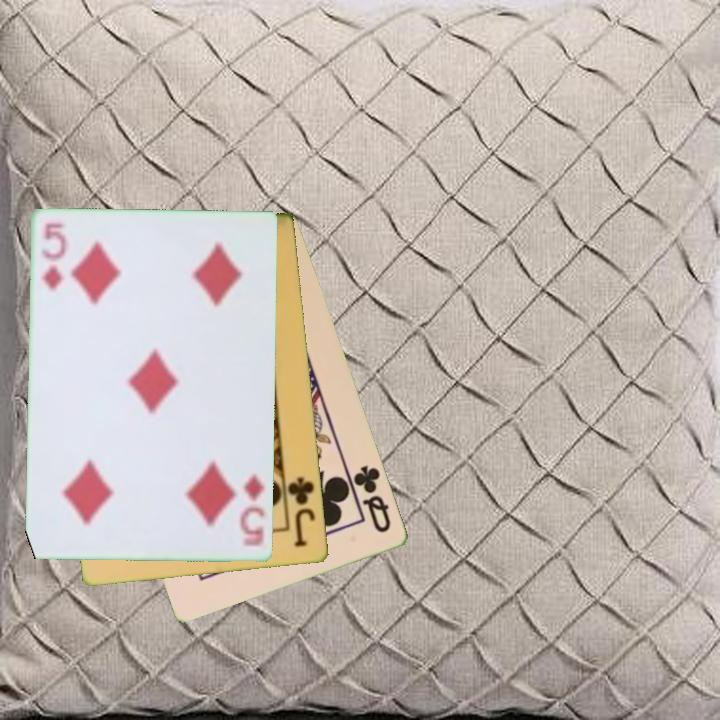5d: (237, 470, 269, 550), (38, 219, 68, 293)
Jc: (284, 473, 319, 551)
Qc: (350, 461, 395, 536)
